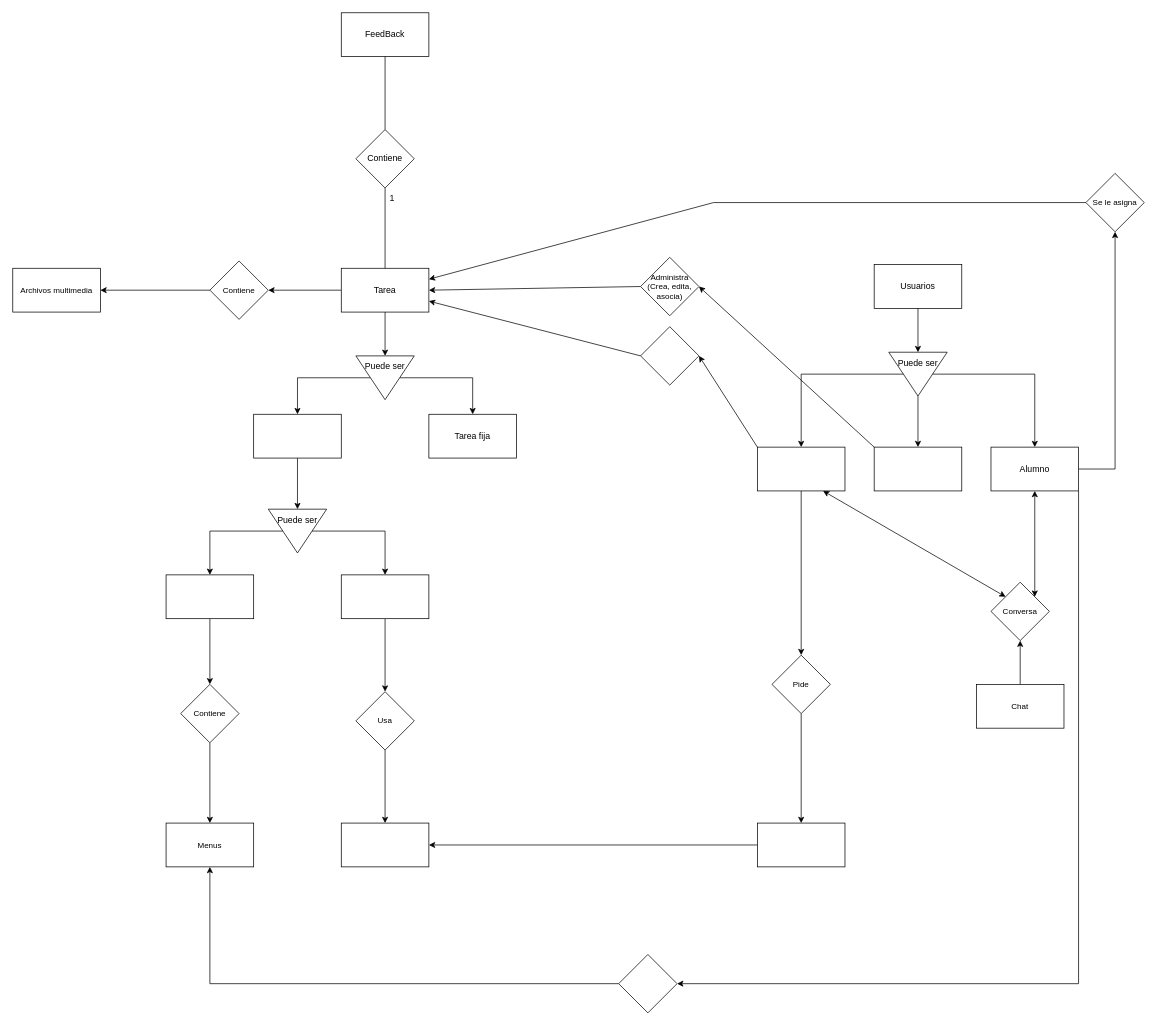
Some shapes in this 1157 by 1026 pixel diagram are drawn without their labels. Here are the shapes that lost their labels. From the top down, the box of each, then its label:
(640, 326, 699, 385): Edita
(253, 414, 341, 458): Tarea comanda
(757, 446, 845, 491): Educador
(873, 446, 962, 491): Administrador
(165, 574, 254, 619): Comanda menú
(341, 574, 429, 619): Comanda material
(341, 822, 429, 867): Listado de Items
(757, 822, 845, 867): Materiales
(618, 954, 677, 1013): Asociados
